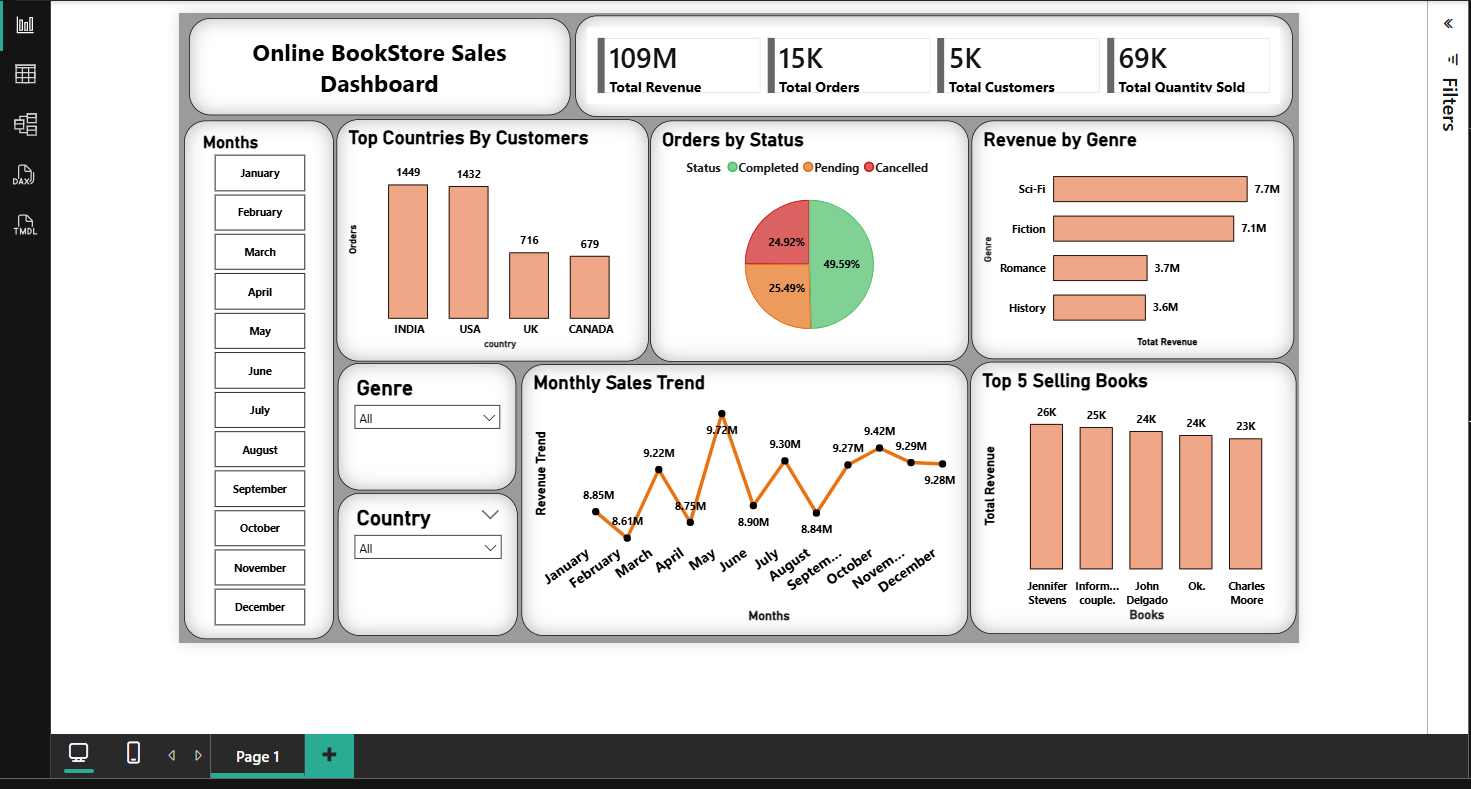

What the dashboard file says about the page in this screenshot:
{"tool":"powerbi","page":{"name":"Page 1","canvas":[1280,720],"ordinal":0},"visuals":[{"type":"clusteredBarChart","title":"Revenue by Genre","fields":{"Y":["Sum(public orders.payment_amount)"],"Category":["public products.genre"]},"box":[905.7,122.9,368.6,272.9],"z":0},{"type":"pieChart","title":"Orders by Status","fields":{"Category":["public orders.status"],"Y":["CountNonNull(public orders.order_id)"]},"box":[538.6,122.9,364.3,275.7],"z":1000},{"type":"lineChart","title":"Monthly Sales Trend","fields":{"Y":["Sum(public orders.payment_amount)"],"Category":["public orders.order_date.Variation.Date Hierarchy.Month"]},"box":[391.4,401.4,510,310],"z":2000},{"type":"columnChart","title":"Top 5 Selling Books","fields":{"Y":["Sum(public orders.payment_amount)"],"Category":["public products.book_title"]},"box":[904.3,398.6,372.9,311.4],"z":3000},{"type":"cardVisual","fields":{"Data":["public customers.Total Revenue","public customers.Total Orders","public customers.Total Customers","public customers.Total Quantity Sold"]},"box":[452.9,2.9,820,115.7],"z":4000},{"type":"slicer","fields":{"Values":["public customers.country"]},"box":[181.4,548.6,205.7,162.9],"z":5000},{"type":"slicer","fields":{"Values":["public products.genre"]},"box":[181.4,400,204.3,145.7],"z":6000},{"type":"slicer","fields":{"Values":["public orders.order_date.Variation.Date Hierarchy.Month"]},"box":[5.7,122.9,171.4,592.9],"z":7000},{"type":"shape","box":[11.4,5.7,435.7,111.4],"z":8000},{"type":"clusteredColumnChart","title":"Top Countries By Customers","fields":{"Category":["public customers.country"],"Y":["Count(public orders.order_id)"]},"box":[180,121.4,357.1,277.1],"z":9000}]}

Visuals, with their boxes on the page's 1280x720 design canvas (x1, y1, x2, y2). These are canvas units, not pixel positions in the 1471x789 screenshot, which may show the page scaled, cropped or inside an application window:
"Revenue by Genre" clusteredBarChart: BBox(906, 123, 1274, 396)
"Orders by Status" pieChart: BBox(539, 123, 903, 399)
"Monthly Sales Trend" lineChart: BBox(391, 401, 901, 711)
"Top 5 Selling Books" columnChart: BBox(904, 399, 1277, 710)
cardVisual - public customers.Total Revenue x public customers.Total Orders: BBox(453, 3, 1273, 119)
slicer - public customers.country: BBox(181, 549, 387, 712)
slicer - public products.genre: BBox(181, 400, 386, 546)
slicer - public orders.order_date.Variation.Date Hierarchy.Month: BBox(6, 123, 177, 716)
shape: BBox(11, 6, 447, 117)
"Top Countries By Customers" clusteredColumnChart: BBox(180, 121, 537, 398)
